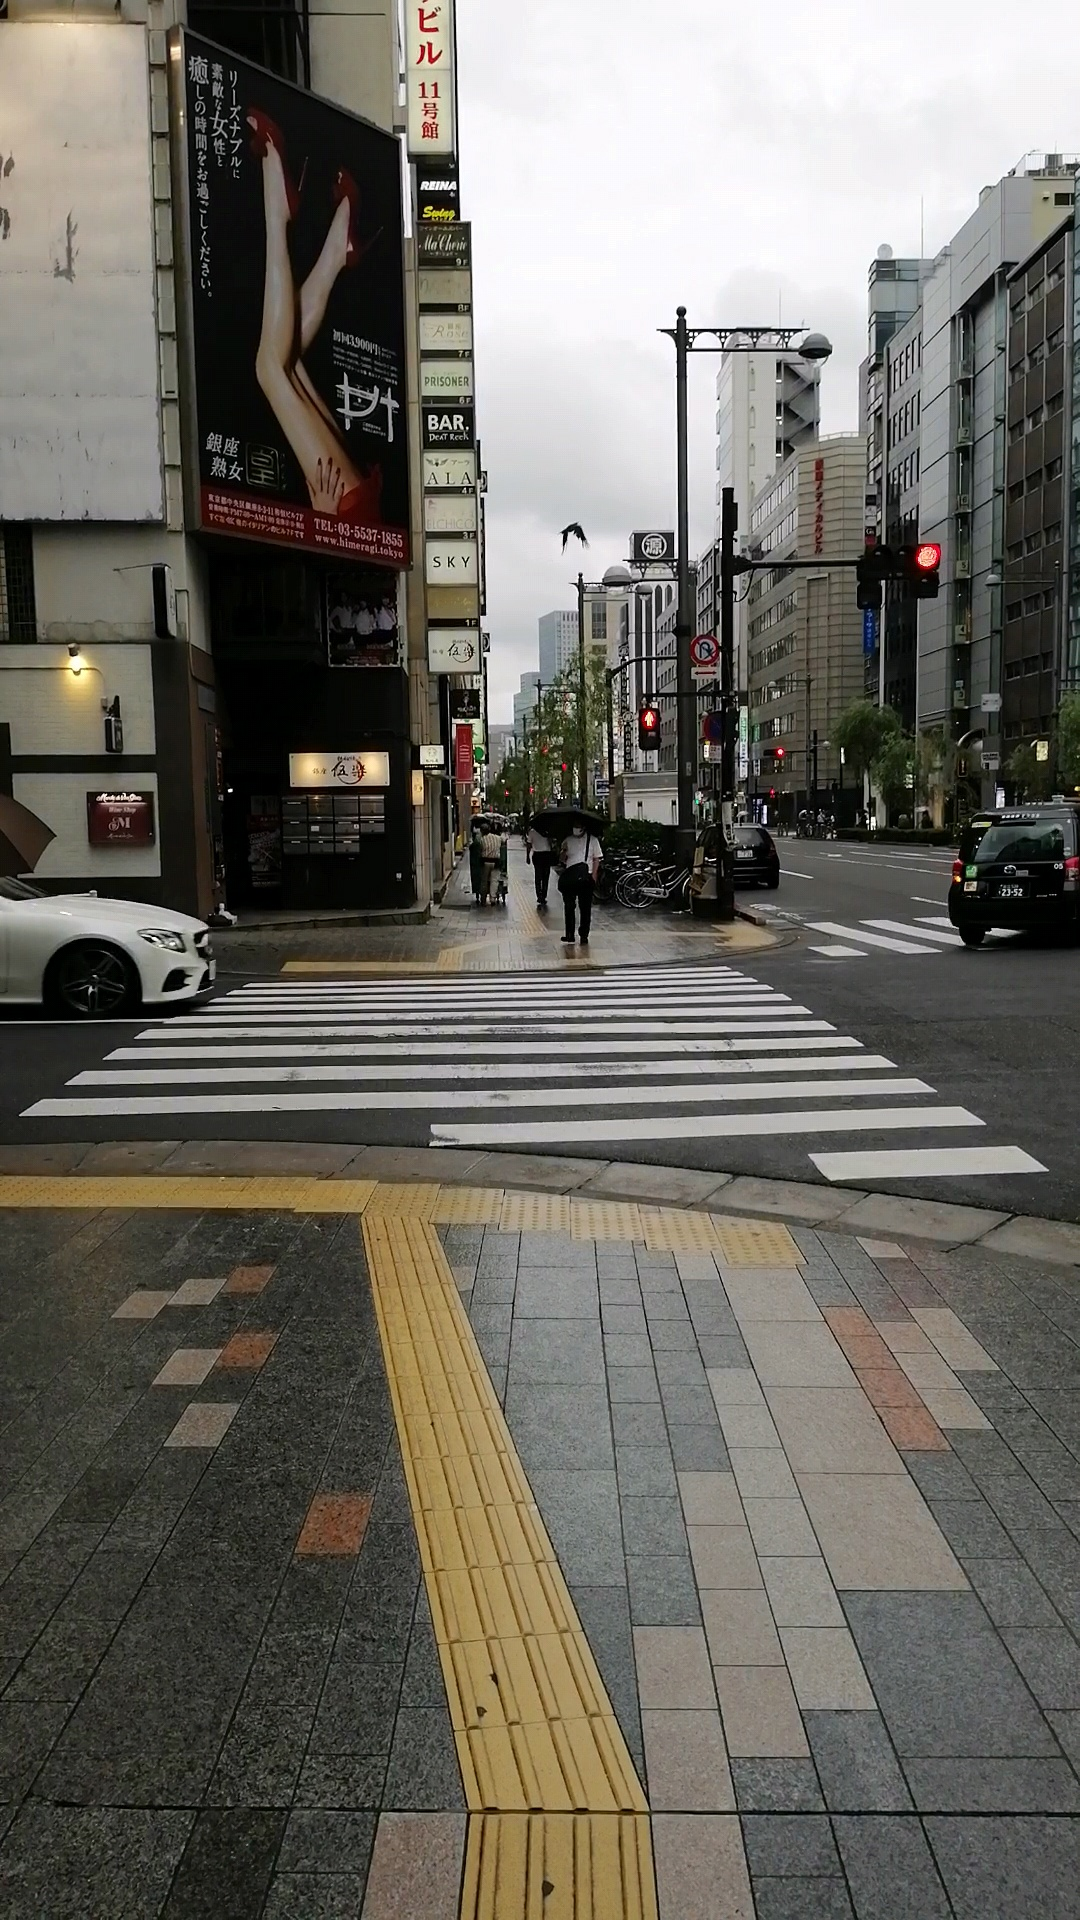red: (638, 708, 659, 750)
